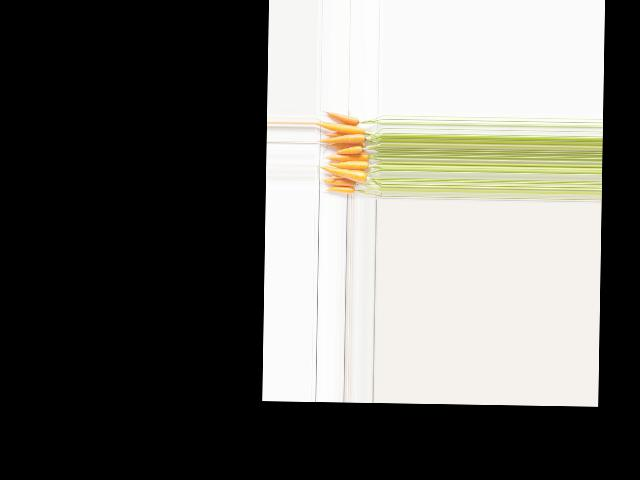carrot: (323, 183, 357, 196)
